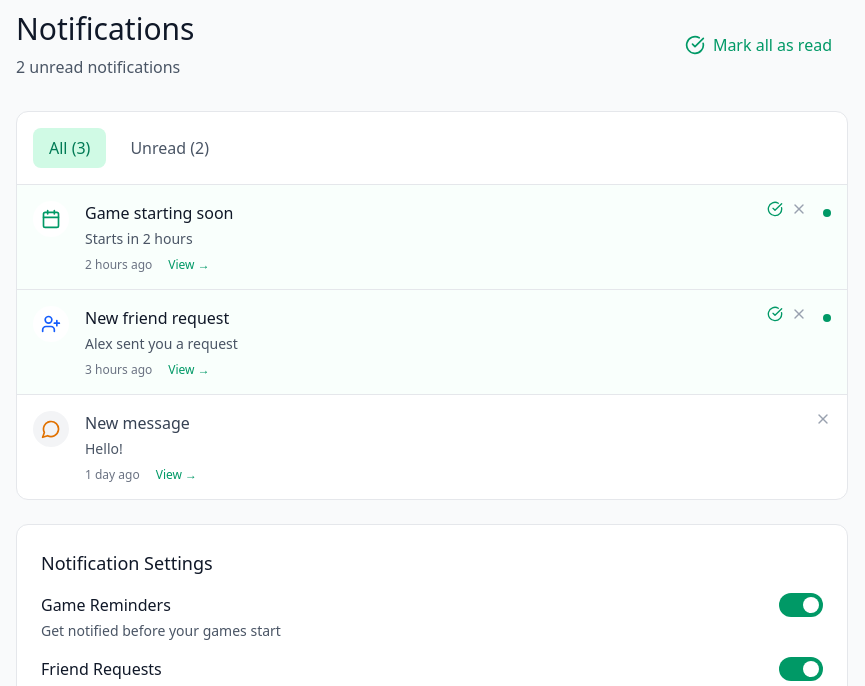
Scenario: NotificationsPage › mark as read keeps local update even if API fails
Click the button titled "Mark as read" in the row of "New friend request" at (775, 314), box [767,306,783,322]
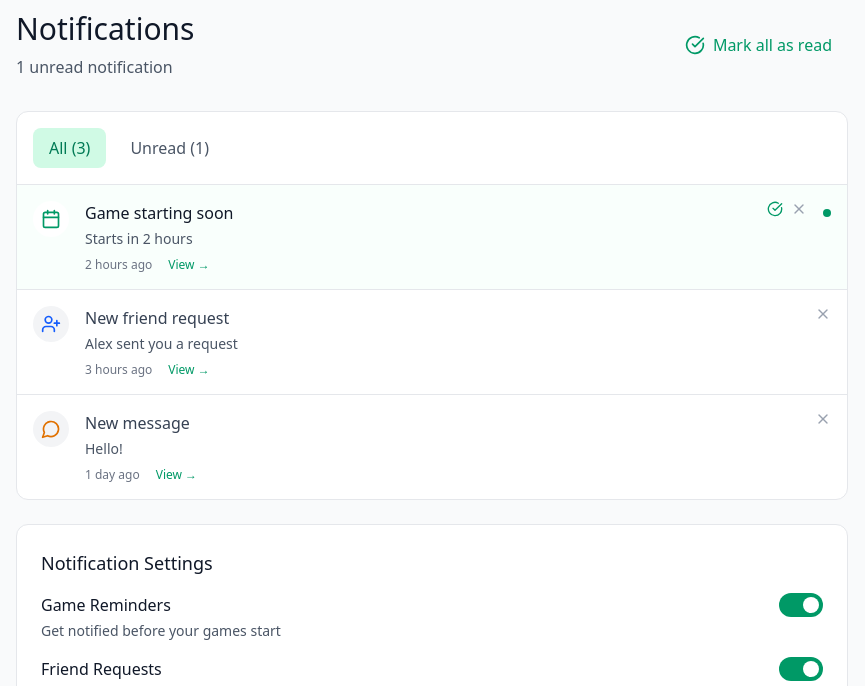
expect the text "1 unread notification" is shown: met, box [16,55,194,79]
